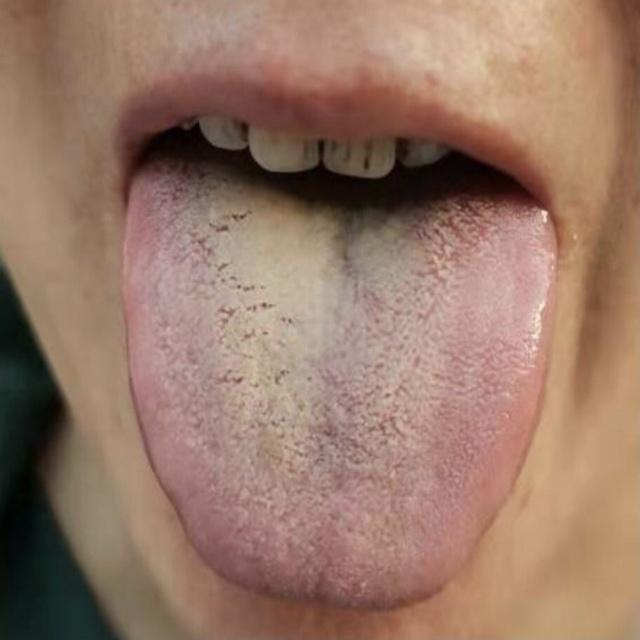huangtaishe: (121, 154, 553, 611)
pangdashe: (121, 154, 553, 611)
shenquao: (277, 181, 429, 295)
